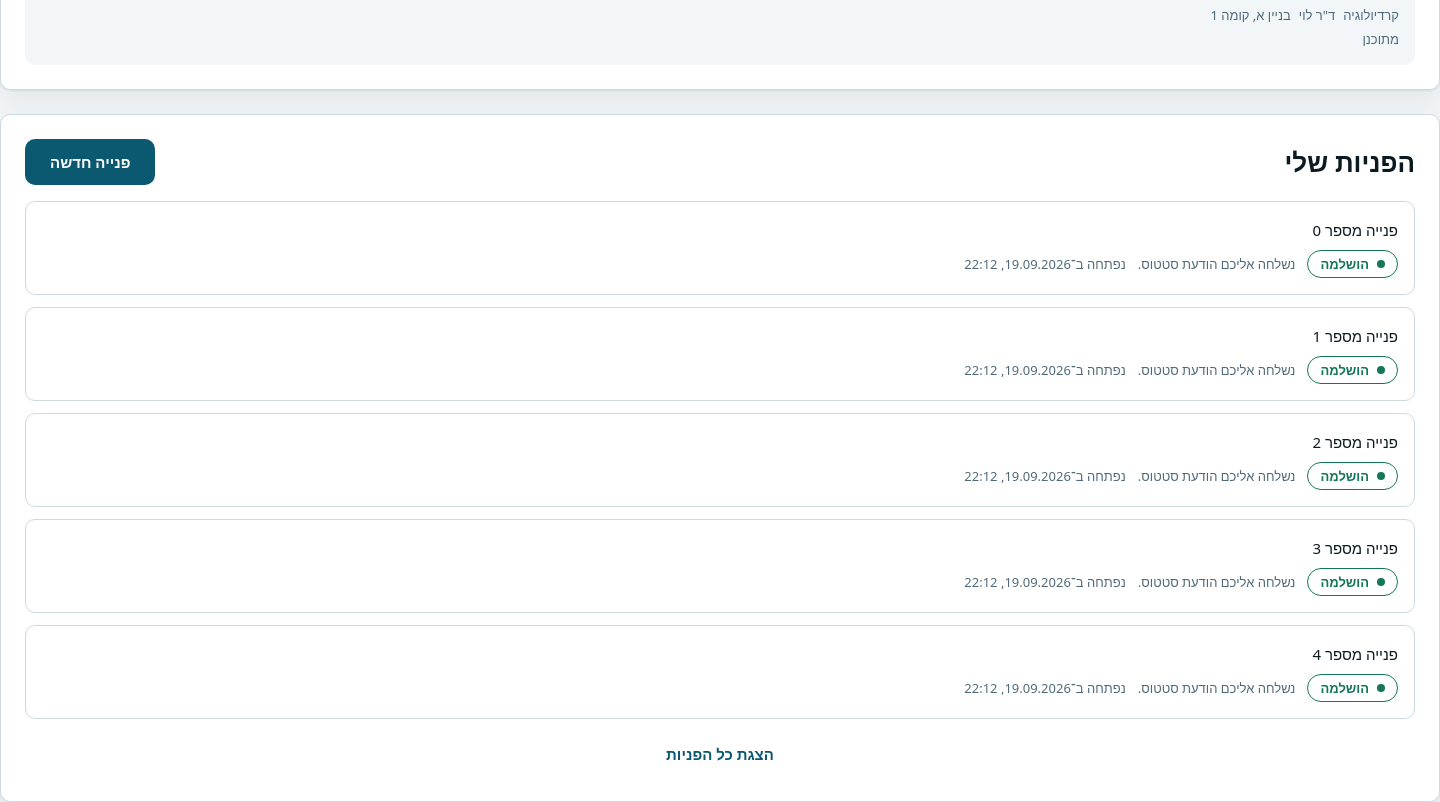
Test: only the newest five at first › offers the button again when loading every request fails
(page scrolled)
Click the button "הצגת כל הפניות". click: (720, 754)
box: [641,731,799,777]
(page scrolled)
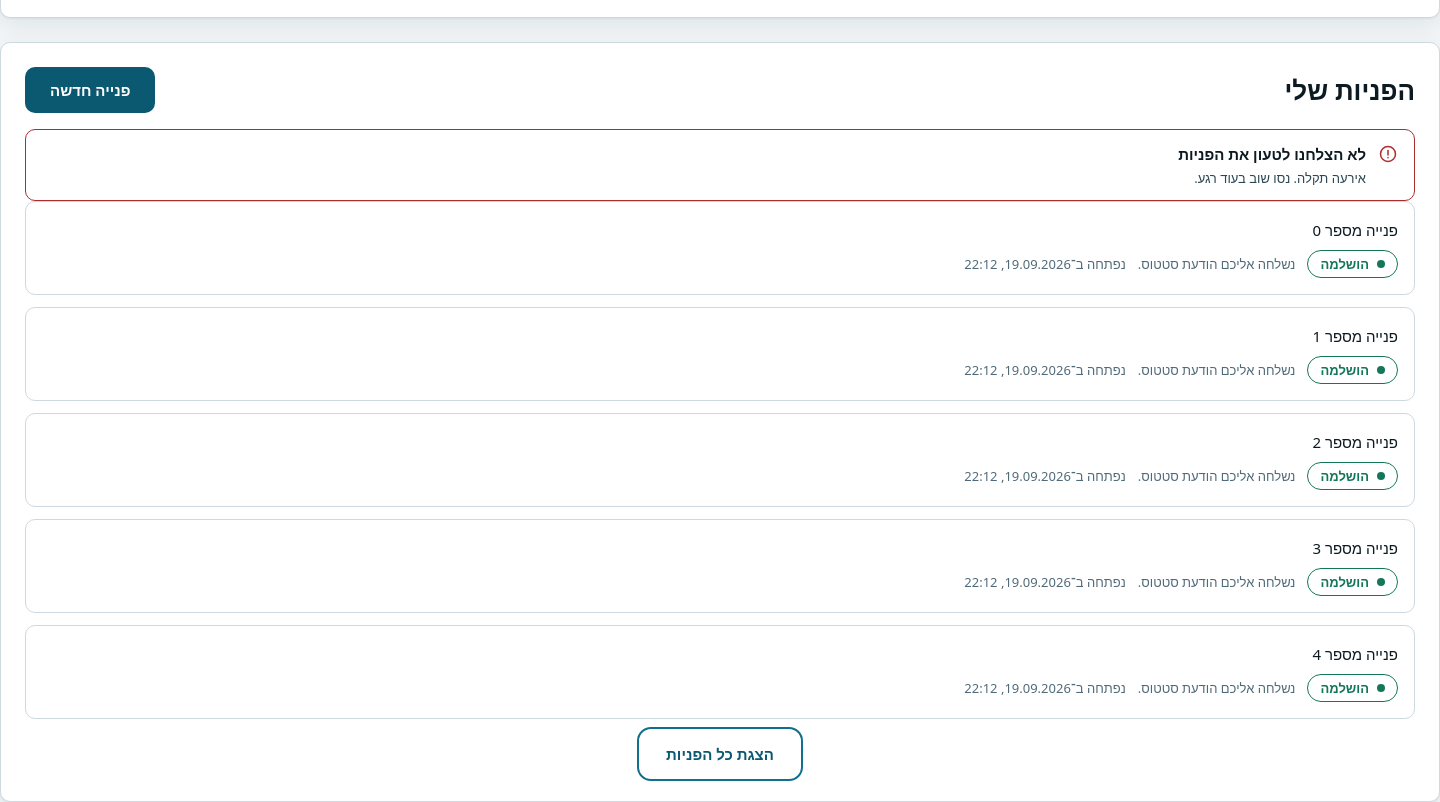
Check: the text "לא הצלחנו לטעון את הפניות" is shown, box [1178,142,1366,166]
